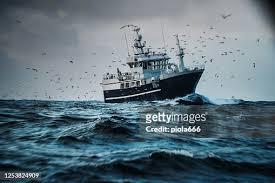Ship: (103, 27, 205, 103)
